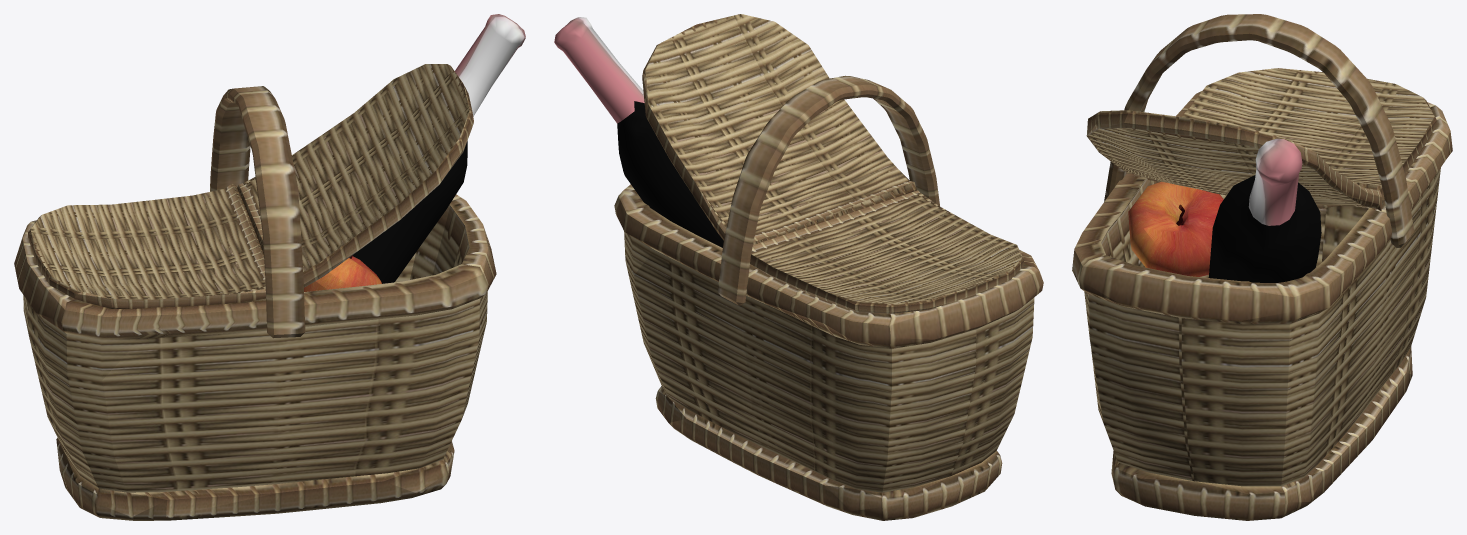
File: picnicBasket.gltf
3 renders of one model, left to right at view 1: azimuth 30°, elevation 25°; view 2: azimuth 150°, elevation 25°; view 3: azimuth 270°, elevation 25°, orthographic. The views are drawn at different scales.
Parts seen in each view (by area): view 1: polySurface19, polySurface22, polySurface16, polySurface23, polySurface6, polySurface14; view 2: polySurface19, polySurface22, polySurface16, polySurface23, polySurface6; view 3: polySurface19, polySurface16, polySurface22, polySurface6, polySurface23, polySurface14.
Boxes of the visible parts, bbox=[...] form: polySurface19: bbox=[14, 194, 496, 520]; polySurface22: bbox=[237, 64, 473, 287]; polySurface16: bbox=[28, 184, 265, 308]; polySurface23: bbox=[210, 86, 305, 338]; polySurface6: bbox=[353, 14, 525, 283]; polySurface14: bbox=[304, 255, 381, 291]; polySurface19: bbox=[614, 184, 1043, 520]; polySurface22: bbox=[642, 14, 916, 244]; polySurface16: bbox=[750, 190, 1023, 313]; polySurface23: bbox=[718, 75, 939, 305]; polySurface6: bbox=[554, 17, 723, 247]; polySurface19: bbox=[1072, 91, 1452, 520]; polySurface16: bbox=[1181, 68, 1436, 204]; polySurface22: bbox=[1086, 110, 1382, 210]; polySurface6: bbox=[1208, 138, 1321, 282]; polySurface23: bbox=[1104, 14, 1414, 247]; polySurface14: bbox=[1128, 181, 1223, 276].
Bounding box in the file's own units: 0.1564 × 0.1199 × 0.0975.
